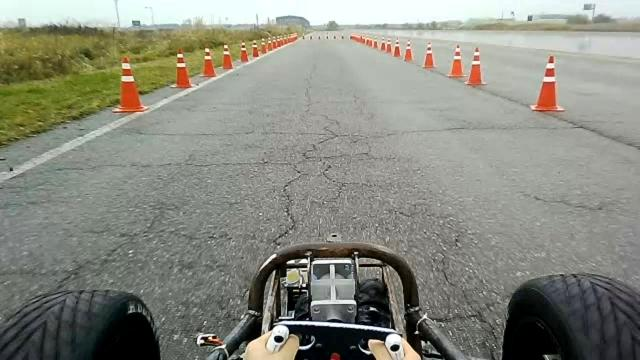red cone: (112, 56, 148, 113), (530, 54, 565, 112), (170, 48, 192, 88), (465, 47, 487, 85), (446, 44, 466, 78), (199, 47, 217, 77), (422, 42, 436, 68), (221, 44, 234, 69), (404, 38, 414, 62), (240, 40, 249, 63), (393, 37, 401, 57), (252, 40, 260, 57), (260, 37, 267, 54), (386, 37, 392, 53)
